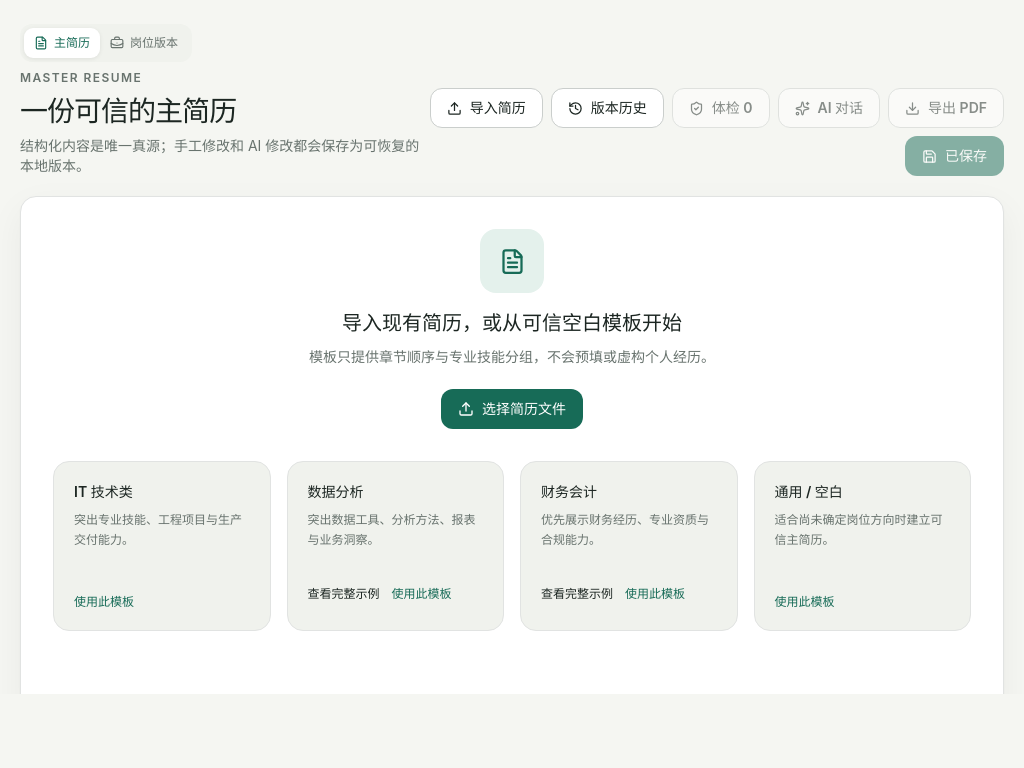
Test: resume template examples › previews a complete example with a safety warning and closes it
Expected: the text "数据分析" is shown, [308,483,364,500]
What coordinates should you click on to do the following:
click the button "查看完整示例" below "突出数据工具、分析方法、报表与业务洞察。"
I would click on:
 (344, 594)
Its box is [308,578,380,610].
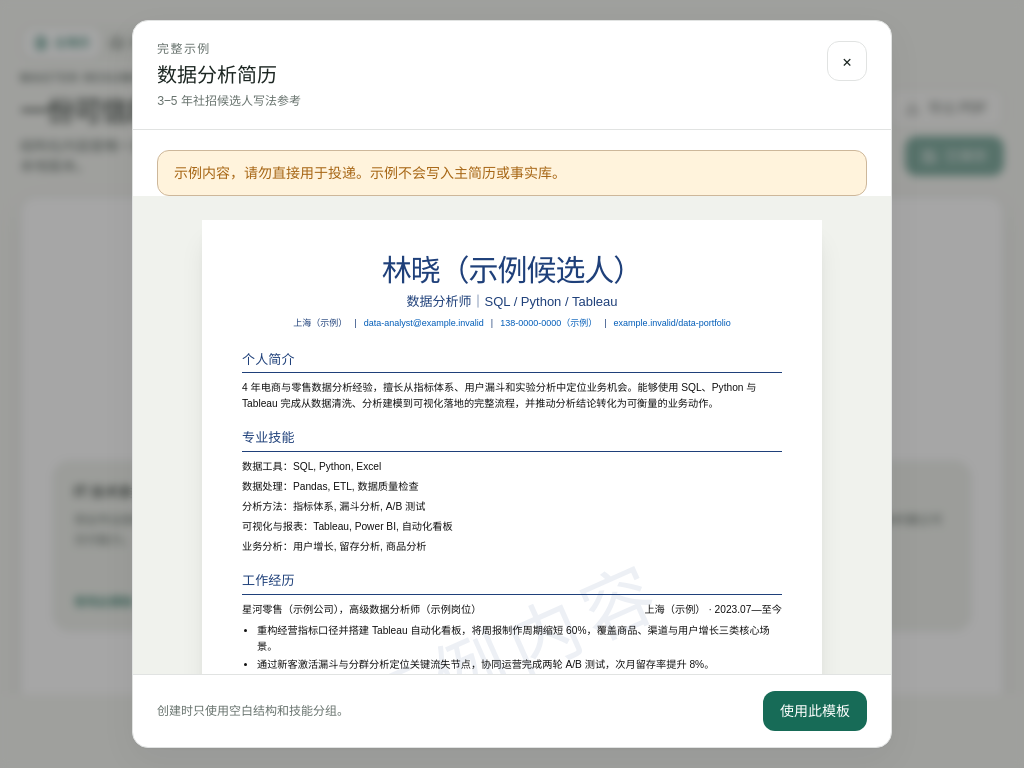
Result: the dialog "数据分析简历" is shown
Result: the text "示例内容，请勿直接用于投递。示例不会写入主简历或事实库。" is shown at [157,150,867,196]
Result: the text "星河零售（示例公司）" is shown at [242,604,339,615]
What coordinates should you click on to do the following:
click the button named "关闭"
I would click on:
 (847, 61)
Its box is [827,41,867,81].
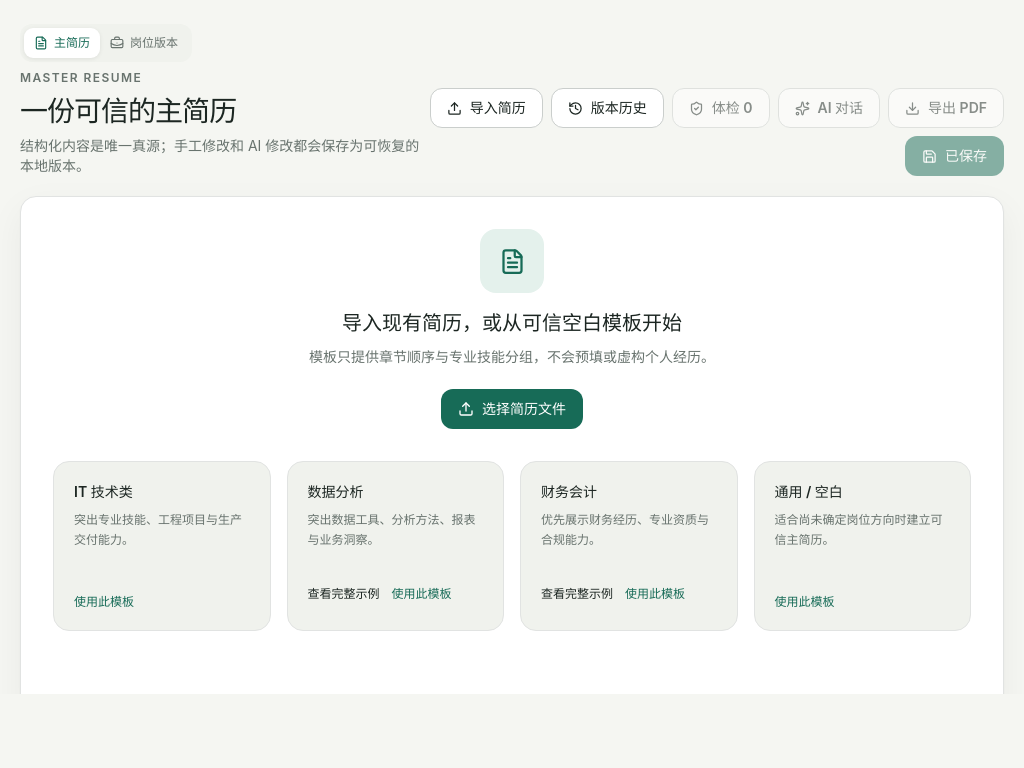
Result: the dialog is gone
